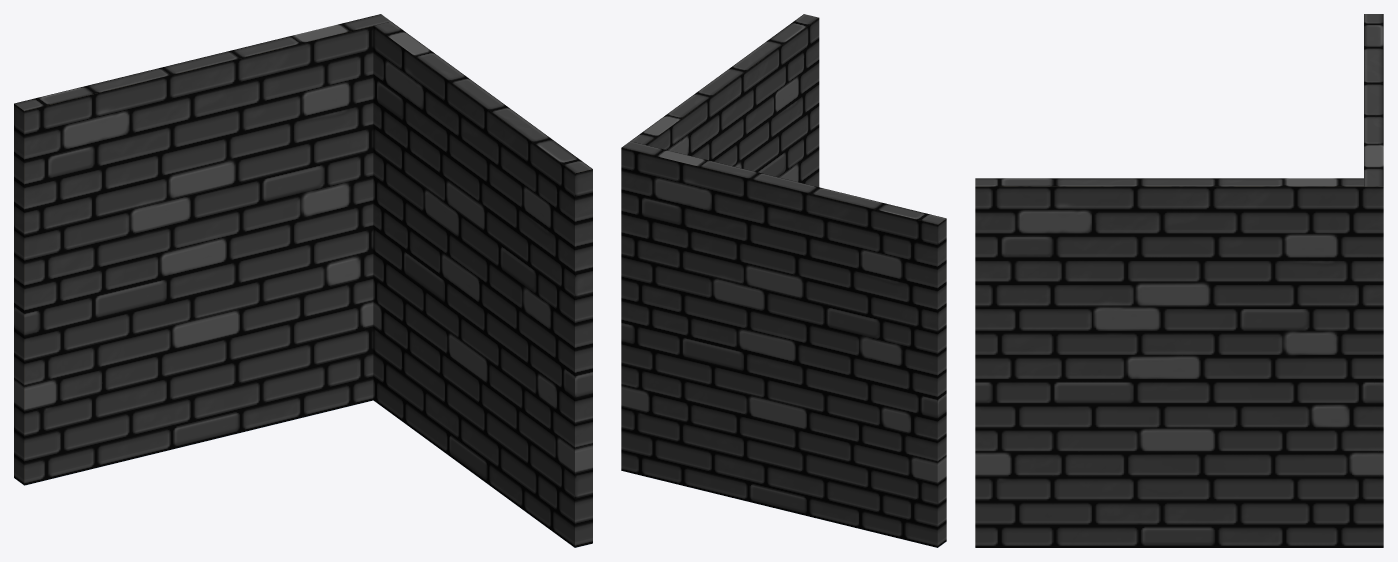
Rendered from Wall_3_Corner_A.fbx.
3 renders of one model, left to right at view 1: azimuth 30°, elevation 25°; view 2: azimuth 150°, elevation 25°; view 3: azimuth 270°, elevation 25°, orthographic. The views are drawn at different scales.
Visible parts, largest first — view 1: polySurface18; view 2: polySurface18; view 3: polySurface18.
Part boxes in pixels (box(x1,y1,x2,y2)): polySurface18: box(14, 14, 592, 547); polySurface18: box(621, 14, 946, 547); polySurface18: box(975, 14, 1383, 547).
Size of the model in its own units: 4.1 by 4 by 4.1.
